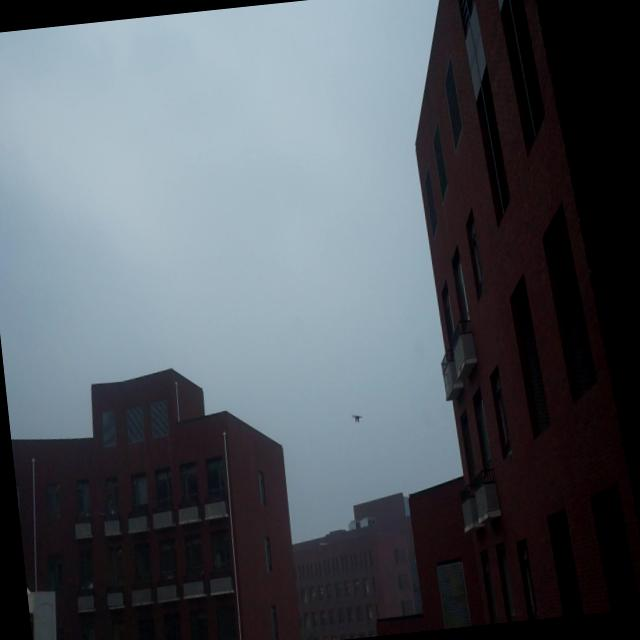drone: (348, 410, 362, 426)
